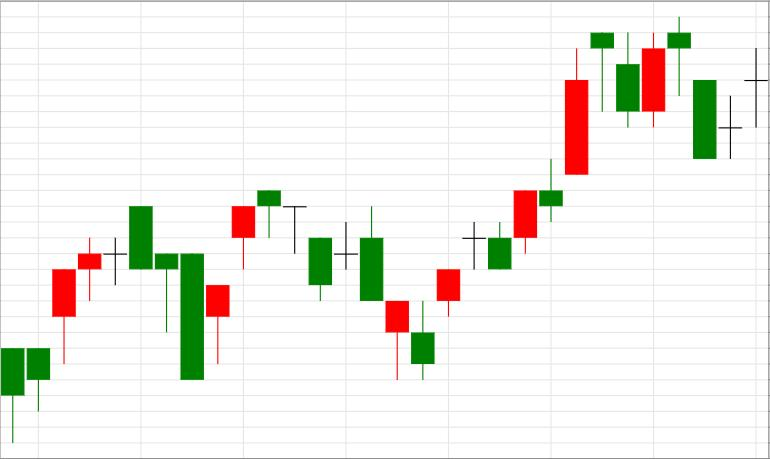evening_star_fall: (436, 33, 639, 317)
hammer_rise: (258, 190, 409, 379), (104, 205, 230, 381)
